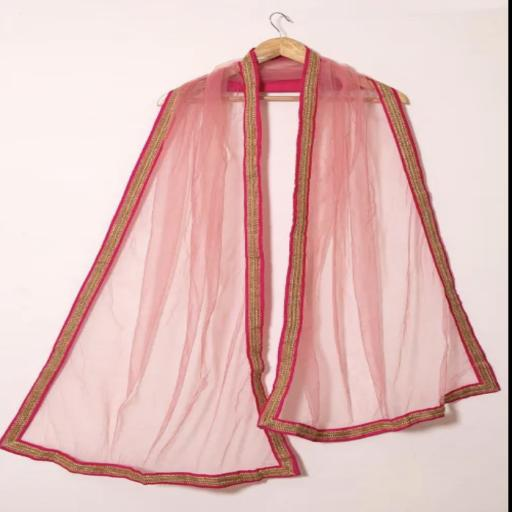dupatta: (8, 33, 498, 491)
